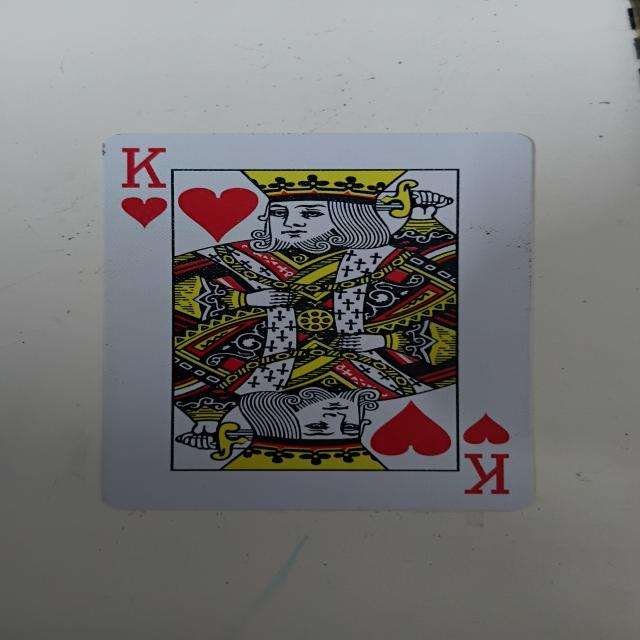KH: (111, 133, 530, 507)
